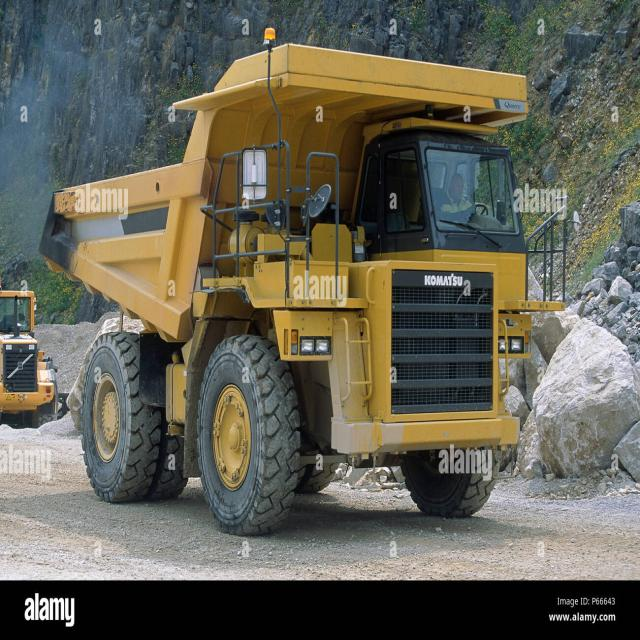dump_truck: (46, 44, 562, 527)
